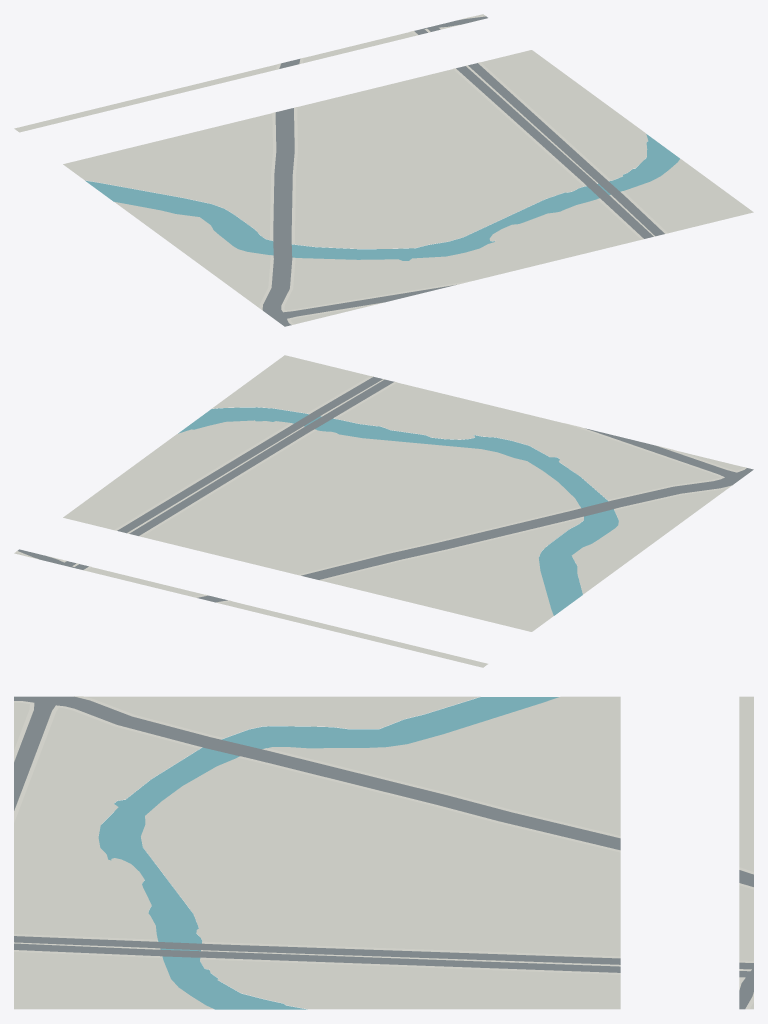
3 views of the same model, one above another, from view 1: azimuth 30°, elevation 25°; view 2: azimuth 150°, elevation 25°; view 3: azimuth 270°, elevation 25° (orthographic). The views are drawn at different scales.
Parts seen in each view (by area): view 1: city; view 2: city; view 3: city.
Part boxes in pixels (left/top/right/bottom): city: left=14, top=14, right=753, bottom=326; city: left=14, top=355, right=753, bottom=667; city: left=14, top=696, right=753, bottom=1009.
Size of the model in its own units: 500 by 0.4 by 500.
